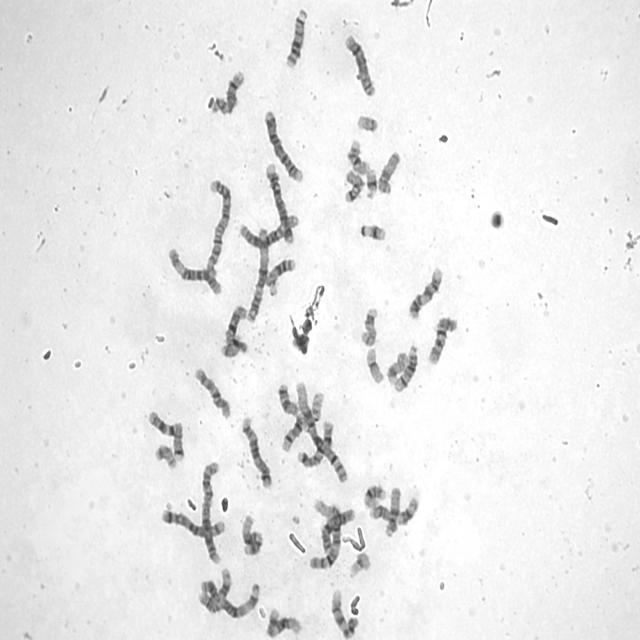A1: (292, 376, 350, 486), (306, 498, 344, 572)
A2: (201, 175, 233, 277), (198, 458, 222, 566)
A3: (197, 576, 262, 620), (243, 222, 271, 323)
B4: (260, 105, 304, 184), (262, 159, 296, 246)
B5: (238, 412, 274, 490), (157, 506, 227, 538)
C10: (191, 363, 233, 420), (425, 312, 459, 367)
C11: (195, 563, 232, 616), (367, 492, 421, 526)
C12: (238, 510, 265, 558), (264, 608, 303, 638)
C6: (165, 242, 224, 296), (235, 209, 299, 250)
C7: (145, 405, 185, 462), (294, 417, 335, 469)
C8: (342, 30, 378, 99), (210, 66, 246, 118)
C9: (406, 262, 444, 320), (328, 586, 359, 638)
D13: (282, 4, 310, 69), (263, 253, 298, 297)
D14: (279, 388, 325, 453), (391, 341, 419, 394)
D15: (375, 147, 402, 195), (382, 483, 402, 538)
E16: (344, 136, 372, 176), (361, 480, 387, 509)
E17: (384, 348, 409, 386), (358, 303, 379, 348)
E18: (275, 380, 300, 417), (342, 169, 366, 204)
F19: (362, 343, 385, 385), (220, 330, 240, 360)
F20: (152, 440, 178, 471), (227, 304, 248, 336)
G21: (357, 220, 387, 242), (362, 164, 378, 200)
G22: (347, 549, 372, 579), (354, 110, 380, 134)
X: (318, 504, 356, 553)
